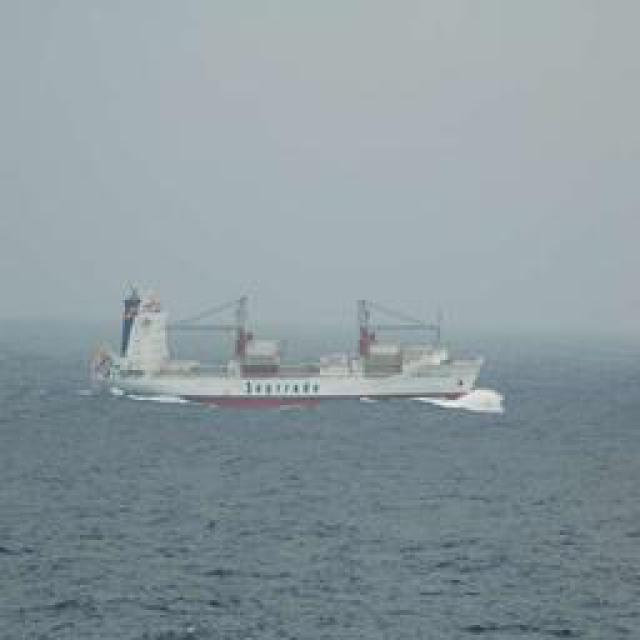Ship: (94, 290, 499, 410)
